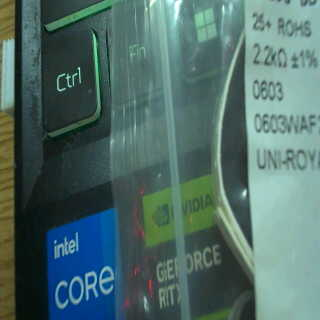2.2kR: (250, 41, 289, 72)
